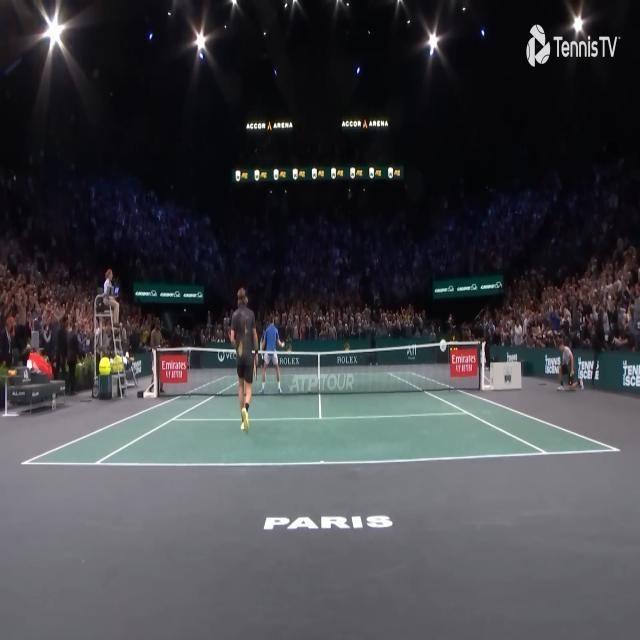court: (20, 370, 622, 467)
net: (152, 340, 486, 394)
player: (228, 286, 259, 430)
